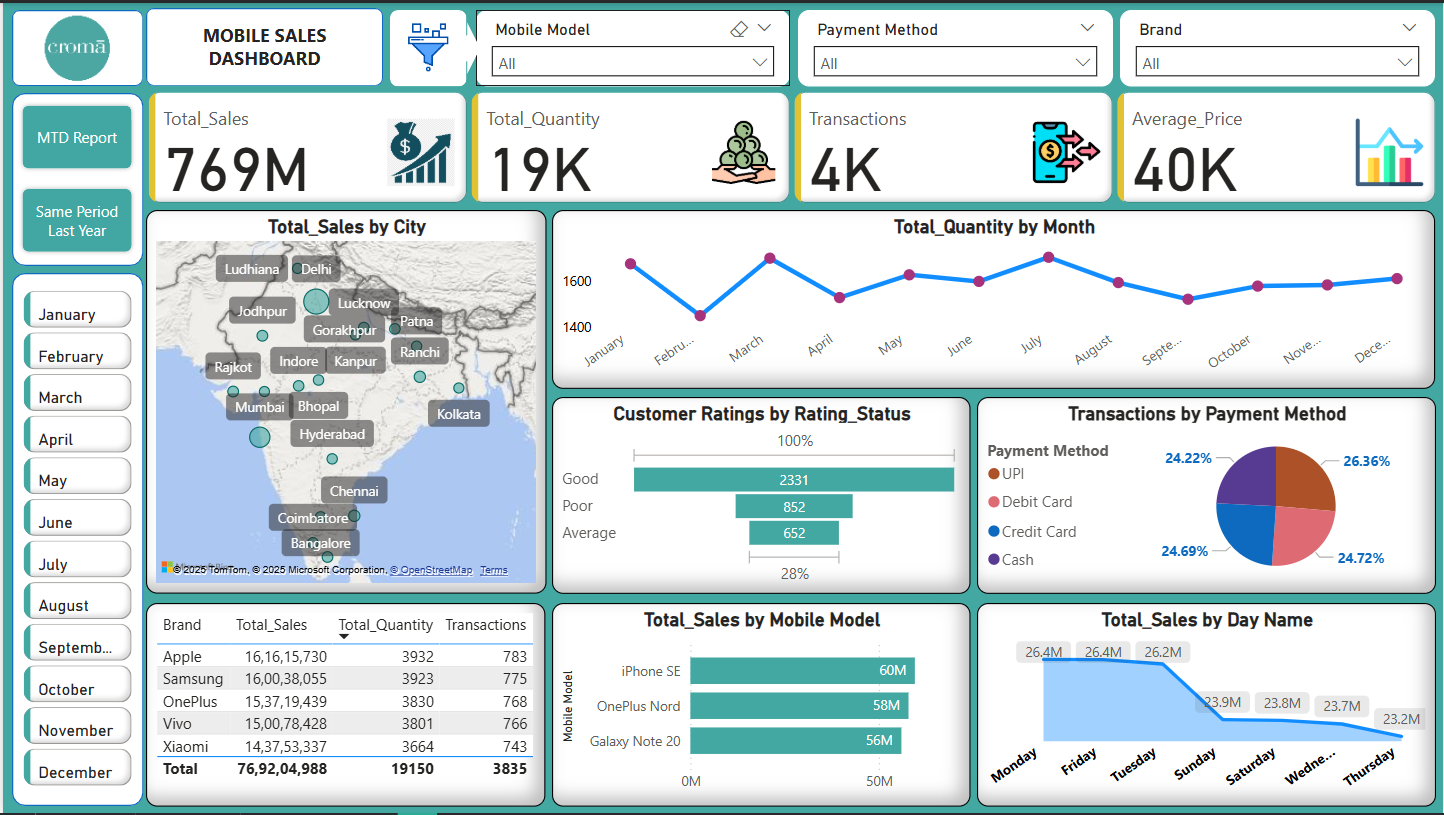

The page's visual inventory and layout, read from the dashboard file:
{"tool":"powerbi","page":{"name":"Dashboard","canvas":[1280,720],"ordinal":0},"visuals":[{"type":"shape","box":[8,6.2,116.4,67.6],"z":0},{"type":"image","box":[7.8,5.8,116.7,68.1],"z":1000},{"type":"shape","box":[7.8,79.8,116.7,153.7],"z":2000},{"type":"shape","box":[7.8,240.2,116.7,473.7],"z":3000},{"type":"advancedSlicerVisual","fields":{"Values":["Custom_Calender.Date.Variation.Date Hierarchy.Month"]},"box":[13.6,250.9,106,454.2],"z":4000},{"type":"cardVisual","fields":{"Data":["Sales_Data.Total_Sales","Sales_Data.Total_Quantity","Sales_Data.Transactions","Sales_Data.Average_Price"]},"box":[124.5,73.9,1155.5,109.9],"z":5000},{"type":"slicer","fields":{"Values":["Sales_Data.Mobile Model"]},"box":[420.4,6.2,279.1,67.6],"z":6000},{"type":"slicer","fields":{"Values":["Sales_Data.Payment Method"]},"box":[706.7,6.2,280,67.6],"z":7000},{"type":"slicer","fields":{"Values":["Sales_Data.Brand"]},"box":[992.9,6.2,280,67.6],"z":8000},{"type":"shape","box":[344.3,5.8,68.1,68.1],"z":9000},{"type":"image","box":[344.3,12.6,68.1,54.5],"z":10000},{"type":"shape","box":[127.1,4.4,210.7,69.3],"z":11000},{"type":"textbox","box":[134.2,12.4,196.4,55.1],"z":12000},{"type":"map","fields":{"Category":["Sales_Data.City"],"Size":["Sales_Data.Total_Sales"]},"box":[127.1,184,355.6,341.3],"z":13000},{"type":"lineChart","fields":{"Y":["Sales_Data.Total_Quantity"],"Category":["Custom_Calender.Date.Variation.Date Hierarchy.Month"]},"box":[488.3,183.8,784.9,158.5],"z":14000},{"type":"funnel","title":"Customer Ratings by Rating_Status","fields":{"Y":["CountNonNull(Sales_Data.Customer Ratings)"],"Category":["Sales_Data.Rating_Status"]},"box":[488.3,350.2,371.6,175.1],"z":15000},{"type":"pieChart","fields":{"Y":["Sales_Data.Transactions"],"Category":["Sales_Data.Payment Method"]},"box":[865.7,350.2,407.5,175.1],"z":16000},{"type":"clusteredBarChart","fields":{"Y":["Sales_Data.Total_Sales"],"Category":["Sales_Data.Mobile Model"]},"box":[488.3,533,371.6,180.9],"z":17000},{"type":"areaChart","fields":{"Category":["Custom_Calender.Day Name"],"Y":["Sales_Data.Total_Sales"]},"box":[865.7,533,407.5,180.9],"z":18000},{"type":"shape","box":[400.7,16.5,23.3,46.7],"z":19000},{"type":"pageNavigator","box":[13.3,87.1,105.8,139.6],"z":19500},{"type":"tableEx","fields":{"Values":["Sales_Data.Brand","Sales_Data.Total_Sales","Sales_Data.Total_Quantity","Sales_Data.Transactions"]},"box":[127.4,533,355,180.9],"z":20000}]}

Visuals, with their boxes in screenshot pixels (x1, y1, x2, y2), scaled from the page's 1280x720 canvas onto the 1444x815 screenshot:
shape: <region>9, 7, 140, 84</region>
image: <region>9, 7, 140, 84</region>
shape: <region>9, 90, 140, 264</region>
shape: <region>9, 272, 140, 808</region>
advancedSlicerVisual - Custom_Calender.Date.Variation.Date Hierarchy.Month: <region>15, 284, 135, 798</region>
cardVisual - Sales_Data.Total_Sales x Sales_Data.Total_Quantity: <region>140, 84, 1443, 208</region>
slicer - Sales_Data.Mobile Model: <region>474, 7, 789, 84</region>
slicer - Sales_Data.Payment Method: <region>797, 7, 1113, 84</region>
slicer - Sales_Data.Brand: <region>1120, 7, 1436, 84</region>
shape: <region>388, 7, 465, 84</region>
image: <region>388, 14, 465, 76</region>
shape: <region>143, 5, 381, 83</region>
textbox: <region>151, 14, 373, 76</region>
map - Sales_Data.City x Sales_Data.Total_Sales: <region>143, 208, 545, 595</region>
lineChart - Sales_Data.Total_Quantity x Custom_Calender.Date.Variation.Date Hierarchy.Month: <region>551, 208, 1436, 387</region>
"Customer Ratings by Rating_Status" funnel: <region>551, 396, 970, 595</region>
pieChart - Sales_Data.Transactions x Sales_Data.Payment Method: <region>977, 396, 1436, 595</region>
clusteredBarChart - Sales_Data.Total_Sales x Sales_Data.Mobile Model: <region>551, 603, 970, 808</region>
areaChart - Custom_Calender.Day Name x Sales_Data.Total_Sales: <region>977, 603, 1436, 808</region>
shape: <region>452, 19, 478, 72</region>
pageNavigator: <region>15, 99, 134, 257</region>
tableEx - Sales_Data.Brand x Sales_Data.Total_Sales: <region>144, 603, 544, 808</region>
